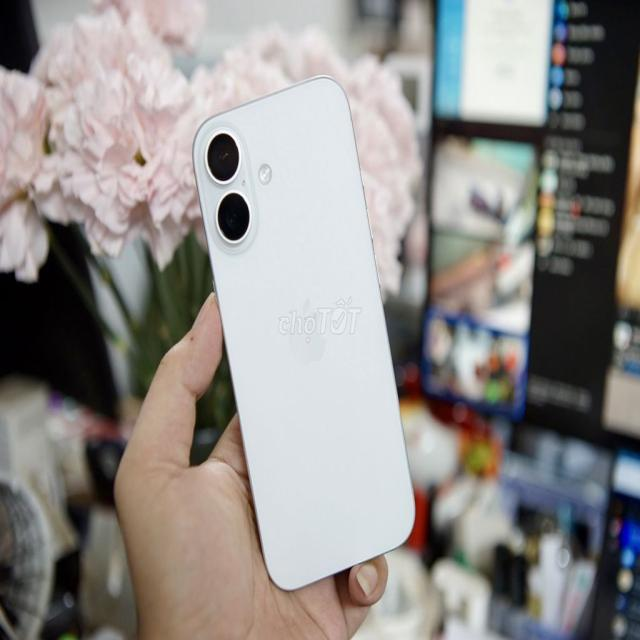gen_16: (185, 67, 424, 593)
